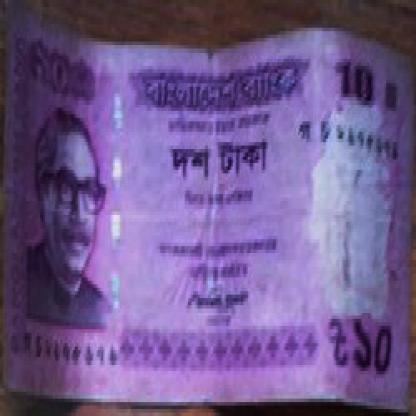Ten Taka: (25, 42, 85, 104), (351, 305, 399, 381), (326, 56, 384, 114)
